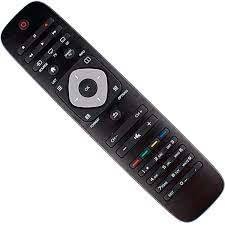remote control: (0, 2, 225, 225)
